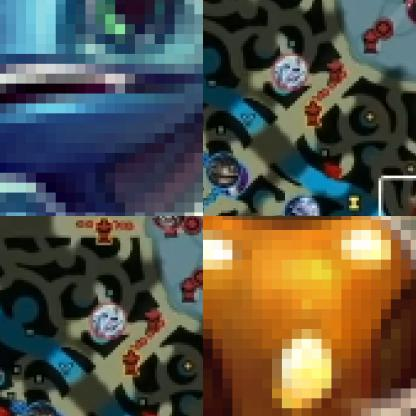Bard: (203, 216, 415, 415)
Fizz: (0, 0, 202, 215)
Jinx: (218, 164, 250, 197)
Tahm Kench: (207, 153, 241, 188), (24, 402, 60, 415)
Tryndamere: (151, 216, 190, 232)
Viego: (90, 300, 128, 340), (272, 52, 310, 90)
Volibear: (285, 195, 324, 215)
